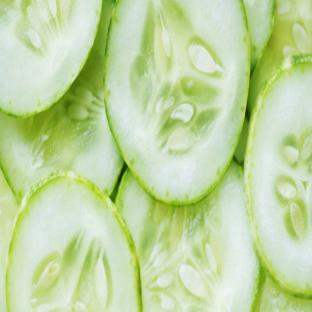Cucumber: (105, 0, 249, 204), (117, 163, 258, 311), (6, 172, 141, 311), (245, 56, 311, 296), (0, 0, 101, 116), (0, 171, 18, 311), (253, 272, 311, 311), (235, 117, 249, 164)
